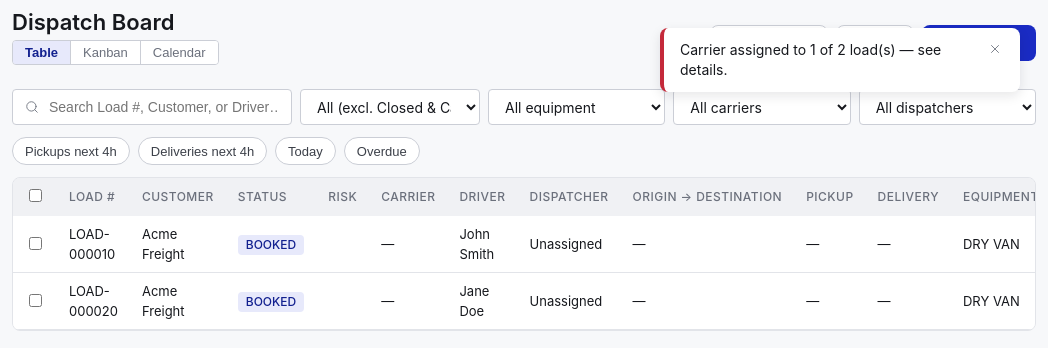
DispatchBoardPage — Dispatch Board Driver visibility › search › still matches by Load #
Expected: the text "LOAD-000010" is shown, [57,216,130,272]
Step 1. Type "LOAD-000010" into the field with placeholder "Search Load #, Customer, or Driver…" → (163, 107), box [47,98,279,116]
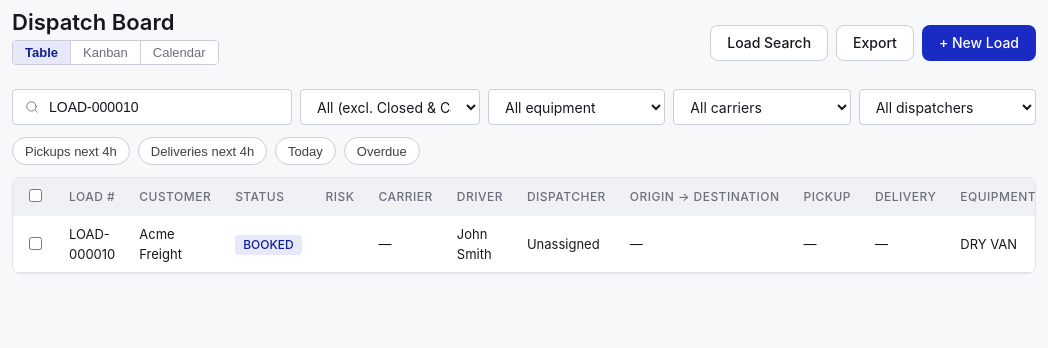
Expected: the text "LOAD-000010" is shown, [57,216,127,272]
Result: the text "LOAD-000020" is gone
